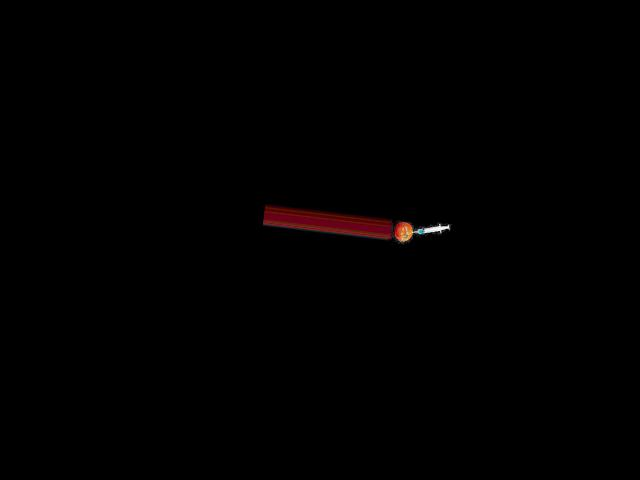tomato: (393, 220, 413, 242)
